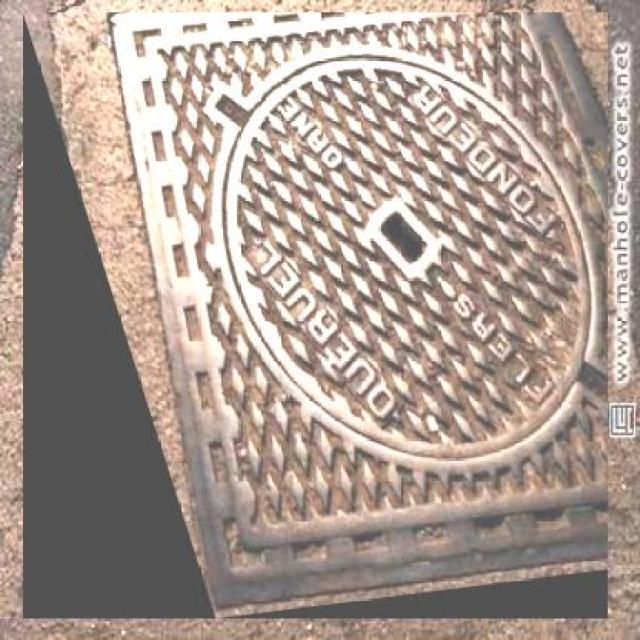Manhole: (23, 12, 608, 618)
